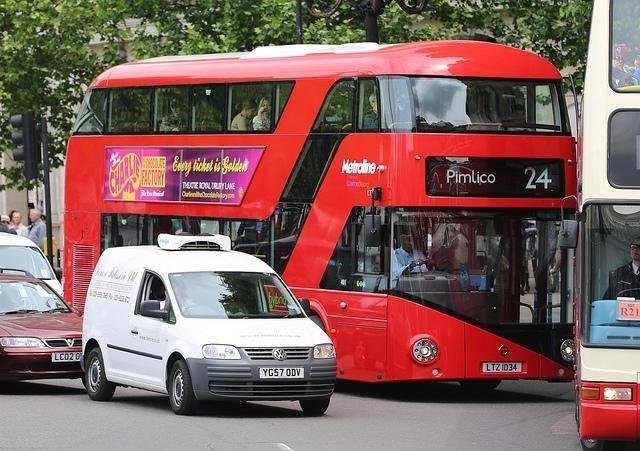bus: (63, 37, 580, 384), (577, 1, 640, 451)
car: (1, 266, 85, 393), (0, 230, 61, 294)
truck: (79, 232, 337, 417)
